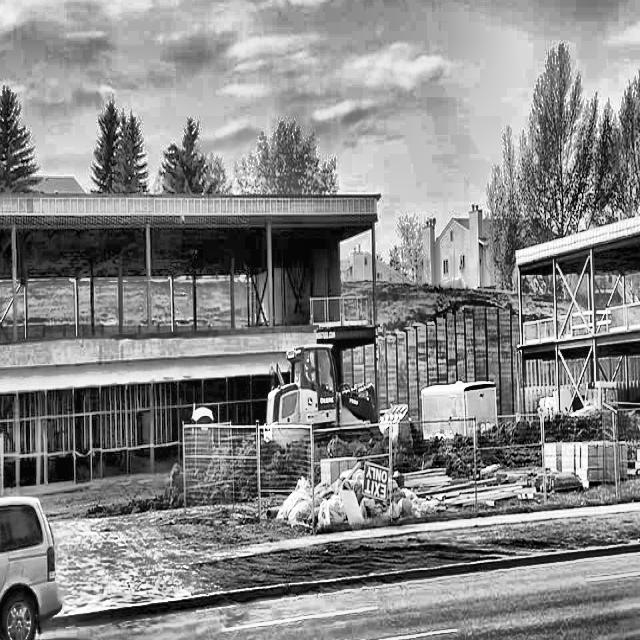buldozerpayloadergrader: (260, 315, 414, 460)
